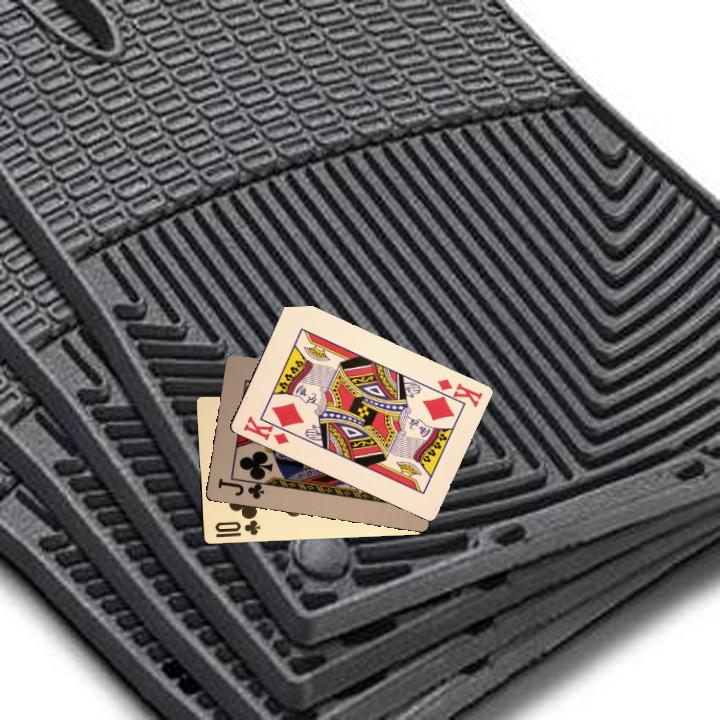10c: (211, 516, 263, 540)
Jc: (214, 473, 269, 501)
Kd: (426, 375, 485, 410), (239, 411, 294, 447)
